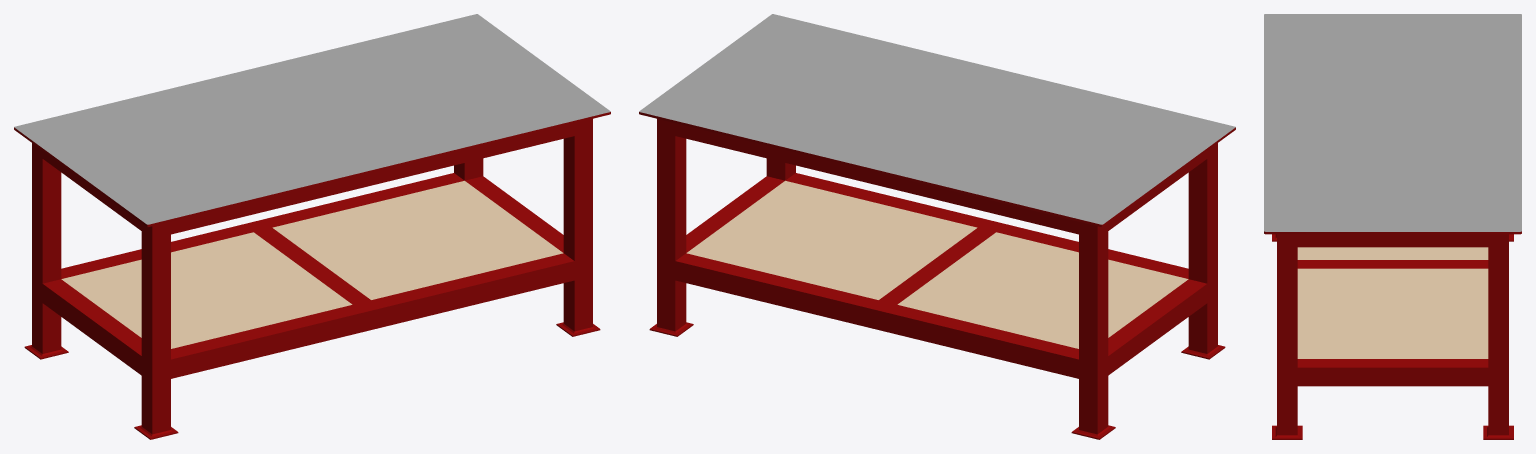
The model's file is table.obj.
The picture shows the model from 3 angles, left to right: view 1: azimuth 30°, elevation 25°; view 2: azimuth 150°, elevation 25°; view 3: azimuth 270°, elevation 25°; orthographic projection. The views are drawn at different scales.
Parts seen in each view (by area): view 1: Mesh1 Group1 Model, Mesh2 Group2 Model, Mesh5 Group3 Model, Mesh6 Group3 Model; view 2: Mesh1 Group1 Model, Mesh2 Group2 Model, Mesh5 Group3 Model, Mesh6 Group3 Model; view 3: Mesh1 Group1 Model, Mesh2 Group2 Model, Mesh5 Group3 Model, Mesh6 Group3 Model.
Boxes of the visible parts, left/top/right/bottom form: Mesh1 Group1 Model: left=14, top=14, right=610, bottom=226; Mesh2 Group2 Model: left=24, top=119, right=600, bottom=439; Mesh5 Group3 Model: left=272, top=180, right=563, bottom=299; Mesh6 Group3 Model: left=61, top=232, right=352, bottom=348; Mesh1 Group1 Model: left=639, top=14, right=1235, bottom=226; Mesh2 Group2 Model: left=649, top=119, right=1225, bottom=439; Mesh5 Group3 Model: left=686, top=180, right=977, bottom=299; Mesh6 Group3 Model: left=897, top=232, right=1188, bottom=348; Mesh1 Group1 Model: left=1264, top=14, right=1521, bottom=234; Mesh2 Group2 Model: left=1272, top=234, right=1513, bottom=439; Mesh5 Group3 Model: left=1297, top=268, right=1488, bottom=358; Mesh6 Group3 Model: left=1297, top=247, right=1488, bottom=259.
Bounding box in the file's own units: 2 × 0.905 × 1.
